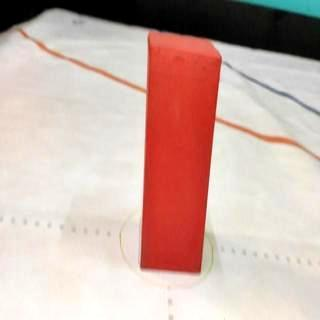redbox: (142, 29, 221, 273)
